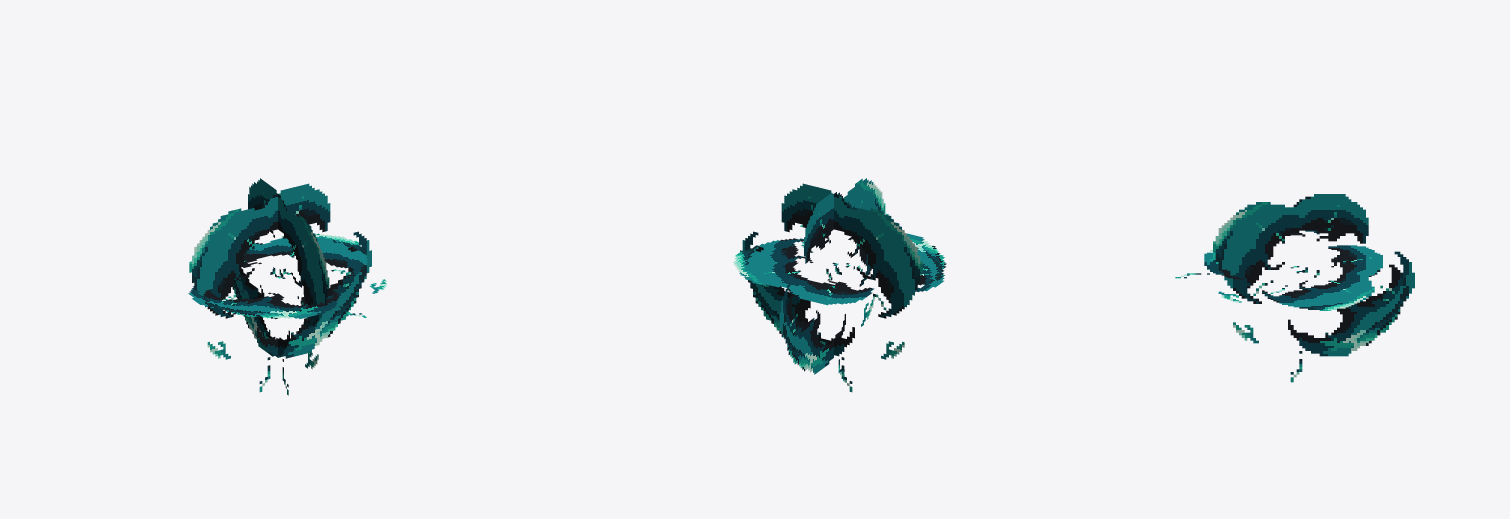
Rendered from vfx_gale_dash_7.gltf.
3 views of the same model, side by side, from view 1: azimuth 30°, elevation 25°; view 2: azimuth 150°, elevation 25°; view 3: azimuth 270°, elevation 25° (orthographic). The views are drawn at different scales.
Parts seen in each view (by area): view 1: cube (×3); view 2: cube (×3); view 3: cube (×2).
Boxes of the visible parts, x1=… form: cube (×3): x1=188, y1=178, x2=387, y2=395; cube (×3): x1=733, y1=178, x2=946, y2=392; cube (×2): x1=1175, y1=194, x2=1414, y2=382.
Size of the model in its own units: 2.06 by 2.06 by 2.06.
1 material, 1 textured.
